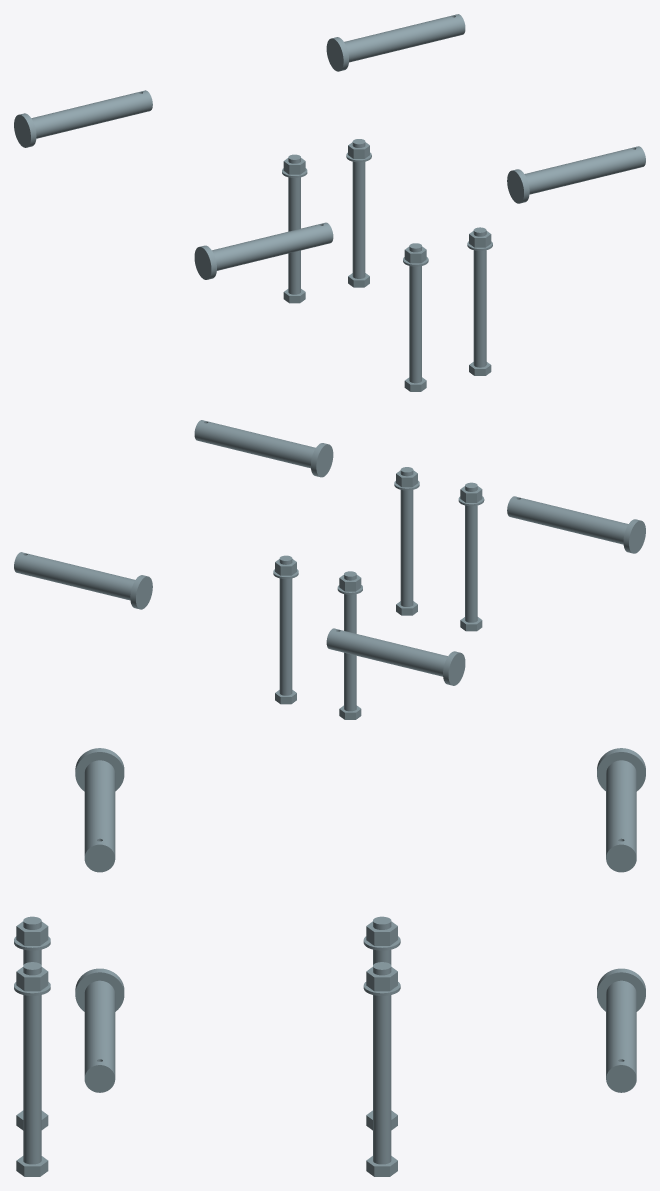
The model's file is stationary_hardware_C02_R01.glb.
The picture shows the model from 3 angles, top to bottom: view 1: azimuth 30°, elevation 25°; view 2: azimuth 150°, elevation 25°; view 3: azimuth 270°, elevation 25°; orthographic projection. The views are drawn at different scales.
Visible parts, largest first — view 1: original_hinge_pin_-170_70, original_hinge_pin_170_70, original_hinge_pin_-170_-270, original_hinge_pin_170_-270, M12_nominal_clamp_bolt_35_114, M12_nominal_clamp_bolt_35_-114, M12_nominal_clamp_bolt_-35_114, M12_nominal_clamp_bolt_-35_-114; view 2: original_hinge_pin_-170_-270, original_hinge_pin_170_-270, original_hinge_pin_-170_70, original_hinge_pin_170_70, M12_nominal_clamp_bolt_35_-114, M12_nominal_clamp_bolt_35_114, M12_nominal_clamp_bolt_-35_114, M12_nominal_clamp_bolt_-35_-114; view 3: original_hinge_pin_170_70, original_hinge_pin_-170_70, original_hinge_pin_-170_-270, original_hinge_pin_170_-270, M12_nominal_clamp_bolt_35_114, M12_nominal_clamp_bolt_35_-114, M12_nominal_clamp_bolt_-35_114, M12_nominal_clamp_bolt_-35_-114, M12_nominal_nut_35_114.
Boxes of the visible parts, box(x1,y1,x2,y2) form: original_hinge_pin_-170_70: box(194, 222, 333, 279); original_hinge_pin_170_70: box(507, 146, 645, 203); original_hinge_pin_-170_-270: box(14, 90, 152, 147); original_hinge_pin_170_-270: box(326, 14, 465, 71); M12_nominal_clamp_bolt_35_114: box(469, 227, 491, 375); M12_nominal_clamp_bolt_35_-114: box(348, 139, 369, 287); M12_nominal_clamp_bolt_-35_114: box(404, 243, 426, 391); M12_nominal_clamp_bolt_-35_-114: box(283, 154, 305, 303); original_hinge_pin_-170_-270: box(326, 628, 465, 685); original_hinge_pin_170_-270: box(14, 552, 152, 609); original_hinge_pin_-170_70: box(507, 496, 645, 553); original_hinge_pin_170_70: box(194, 420, 333, 477); M12_nominal_clamp_bolt_35_-114: box(275, 555, 296, 704); M12_nominal_clamp_bolt_35_114: box(396, 467, 417, 615); M12_nominal_clamp_bolt_-35_114: box(460, 482, 482, 631); M12_nominal_clamp_bolt_-35_-114: box(339, 571, 361, 719); original_hinge_pin_170_70: box(75, 968, 124, 1092); original_hinge_pin_-170_70: box(75, 748, 124, 872); original_hinge_pin_-170_-270: box(597, 748, 645, 872); original_hinge_pin_170_-270: box(597, 968, 645, 1092); M12_nominal_clamp_bolt_35_114: box(16, 962, 48, 1176); M12_nominal_clamp_bolt_35_-114: box(366, 962, 397, 1176); M12_nominal_clamp_bolt_-35_114: box(16, 916, 48, 1130); M12_nominal_clamp_bolt_-35_-114: box(366, 916, 397, 1130); M12_nominal_nut_35_114: box(16, 967, 48, 991).
Bounding box in the file's own units: 0.476 × 0.1755 × 0.412.
